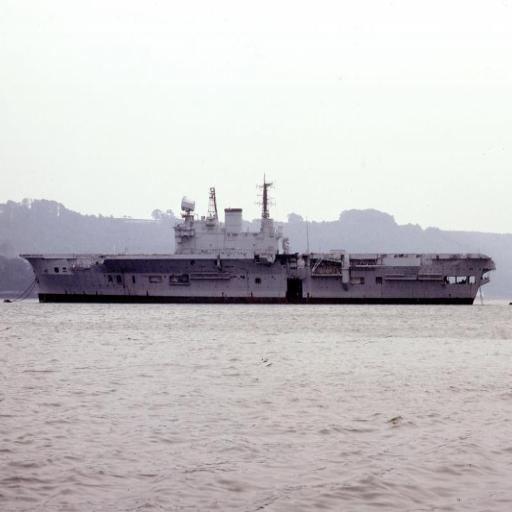Portanaves: (18, 169, 497, 308)
